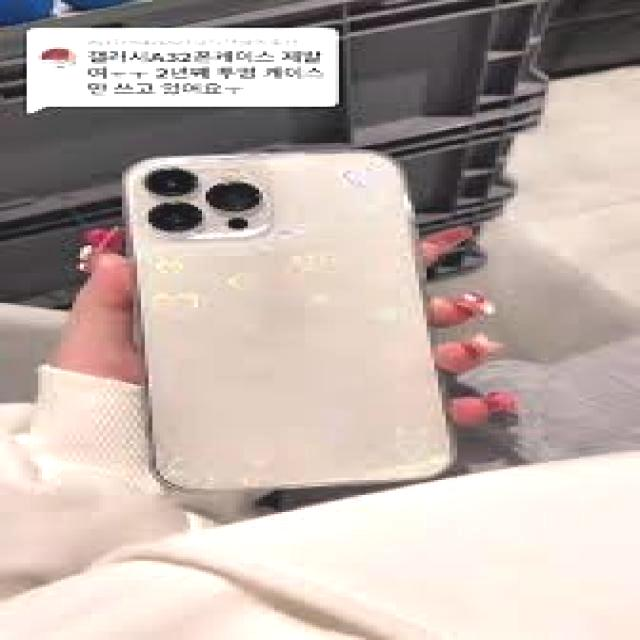lens: (131, 164, 273, 238)
phone: (128, 146, 457, 494)
